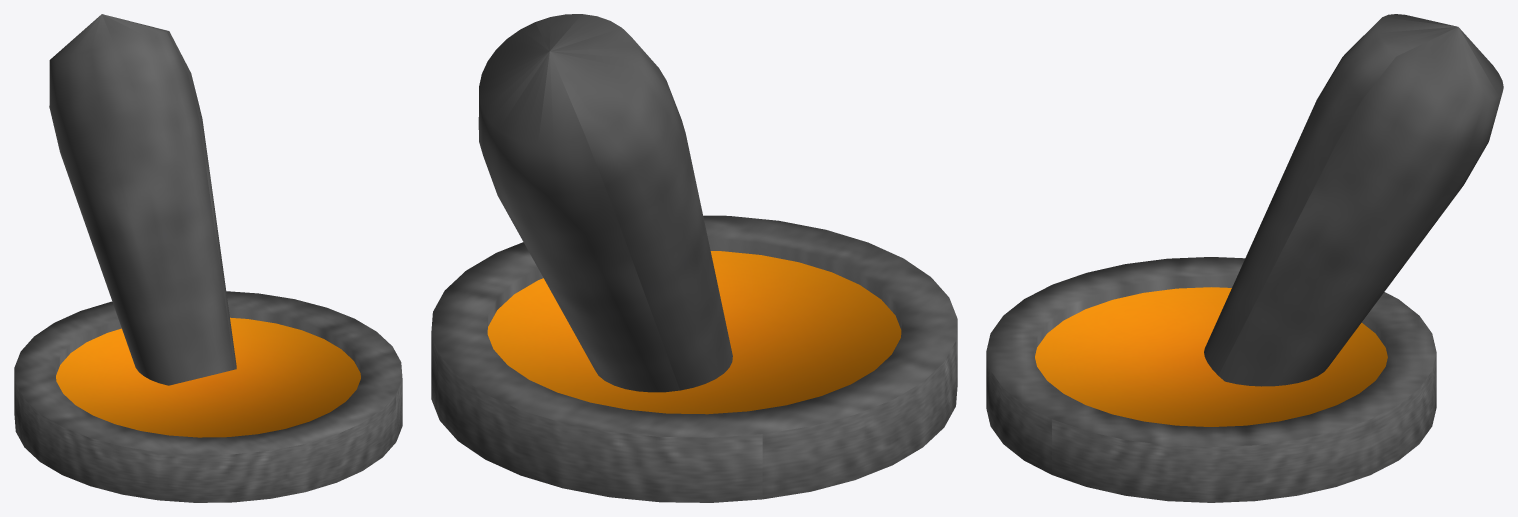
The model's file is Switch - On.obj.
3 renders of one model, left to right at view 1: azimuth 30°, elevation 25°; view 2: azimuth 150°, elevation 25°; view 3: azimuth 270°, elevation 25°, orthographic. The views are drawn at different scales.
Visible parts, largest first — view 1: Cylinder.001; view 2: Cylinder.001; view 3: Cylinder.001.
Part boxes in pixels (x1,y1,x2,y2): Cylinder.001: (14,14,402,502); Cylinder.001: (431,14,957,502); Cylinder.001: (986,14,1503,502).
Bounding box in the file's own units: 6.04 × 5.64 × 6.94.
